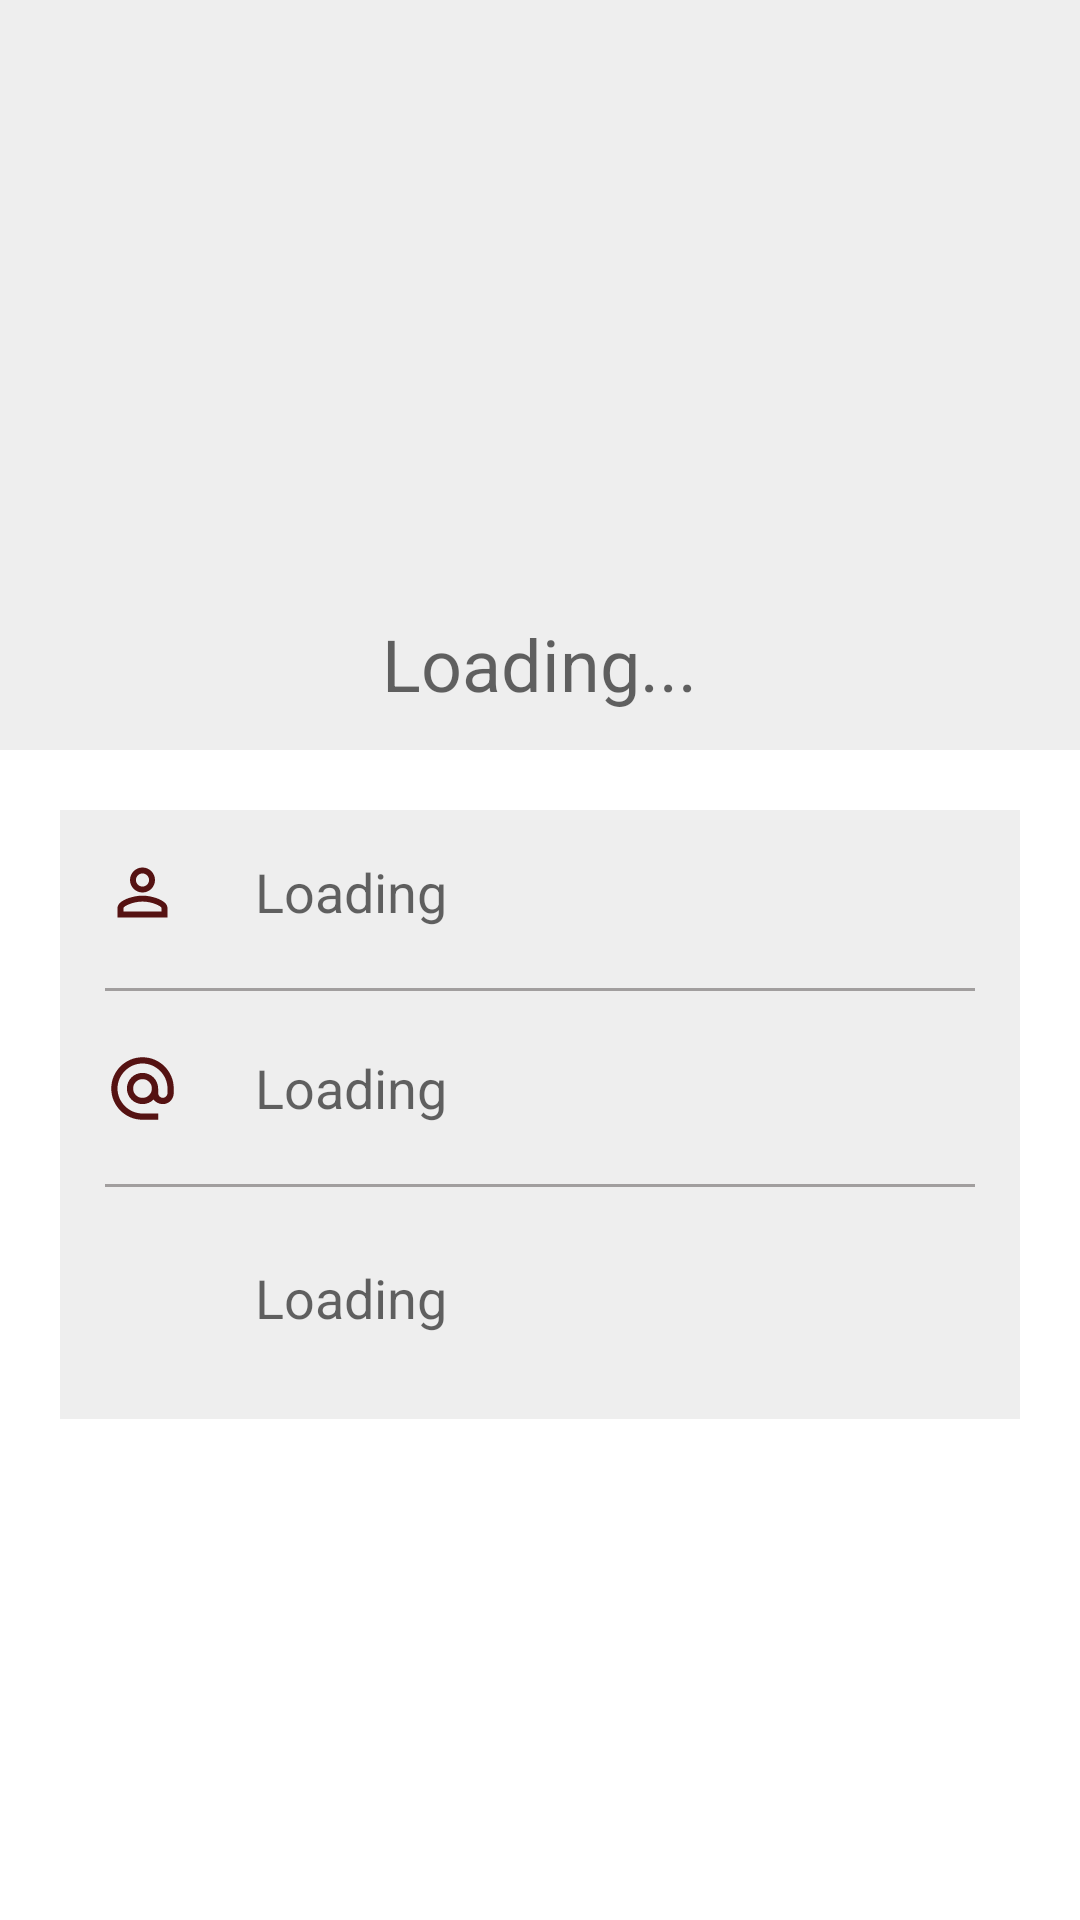

Locate icon controls on the screen. Image size 1080 x 1920, boxes as bbox=(x1, y1, x2, y2).
alternate email: bbox=(111, 1057, 174, 1120)
person: bbox=(117, 867, 168, 918)
